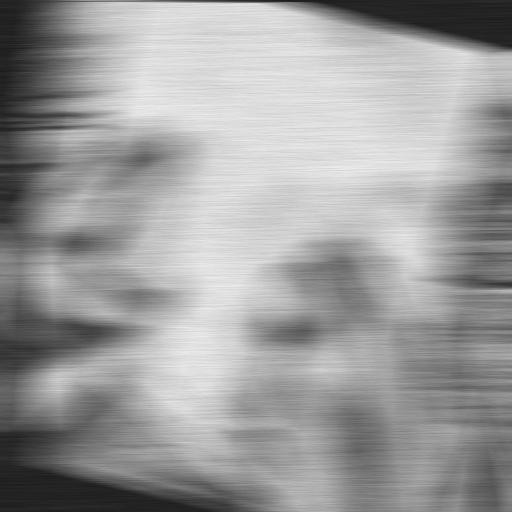bottom_right: (29, 318, 63, 340)
door: (74, 0, 380, 466)
